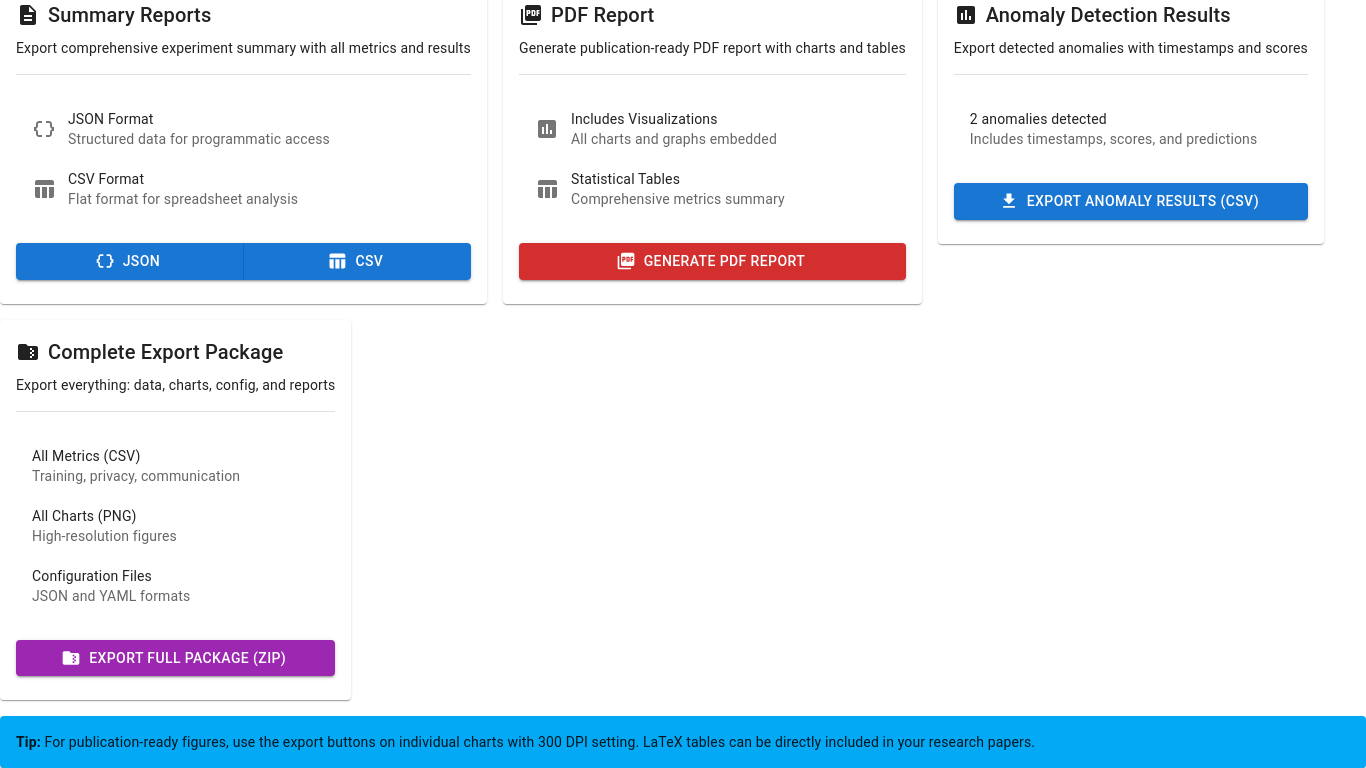
ReportGeneration › Full Package Export › should handle export error
(page scrolled)
Click the button "Export Full Package (ZIP)".
click(176, 658)  # box [16,640,335,676]
(page scrolled)
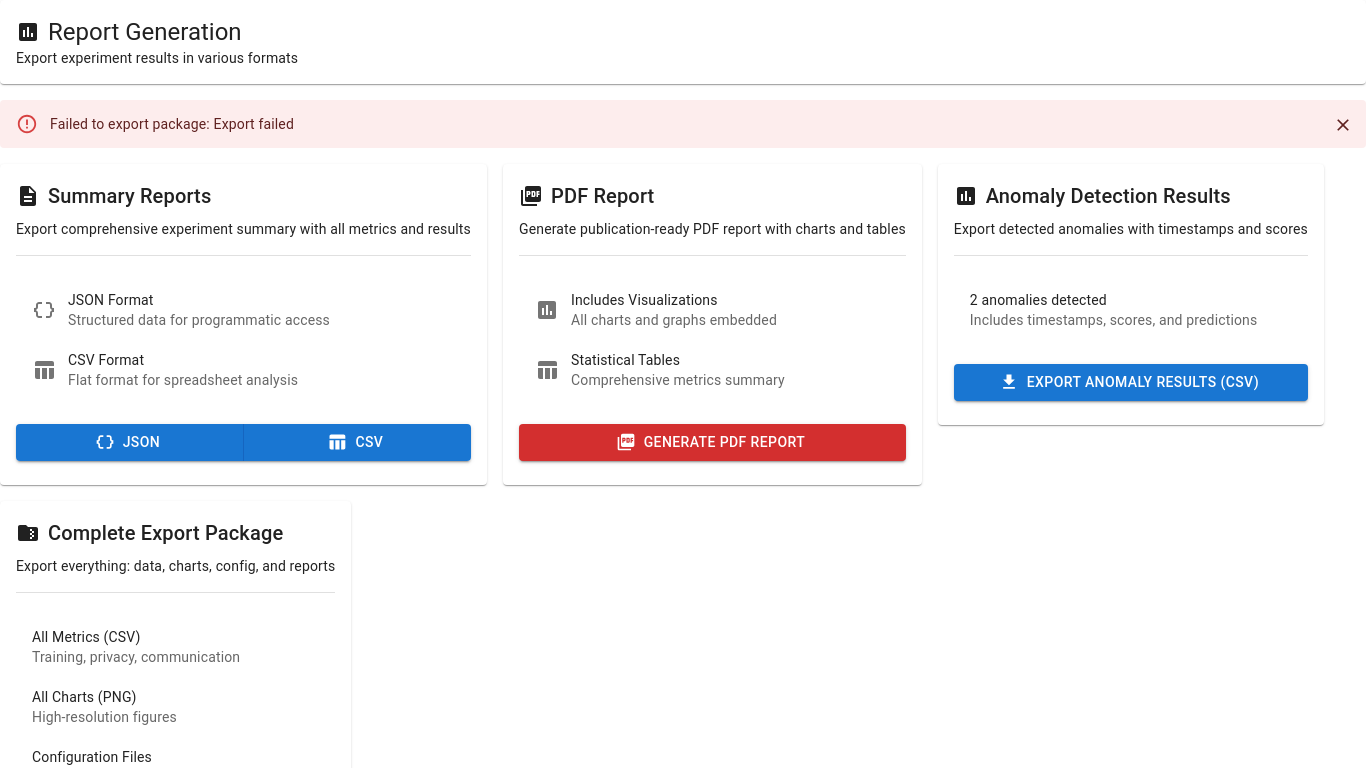
Check: the text "Failed to export package: Export failed" is shown, box [50,116,294,132]
